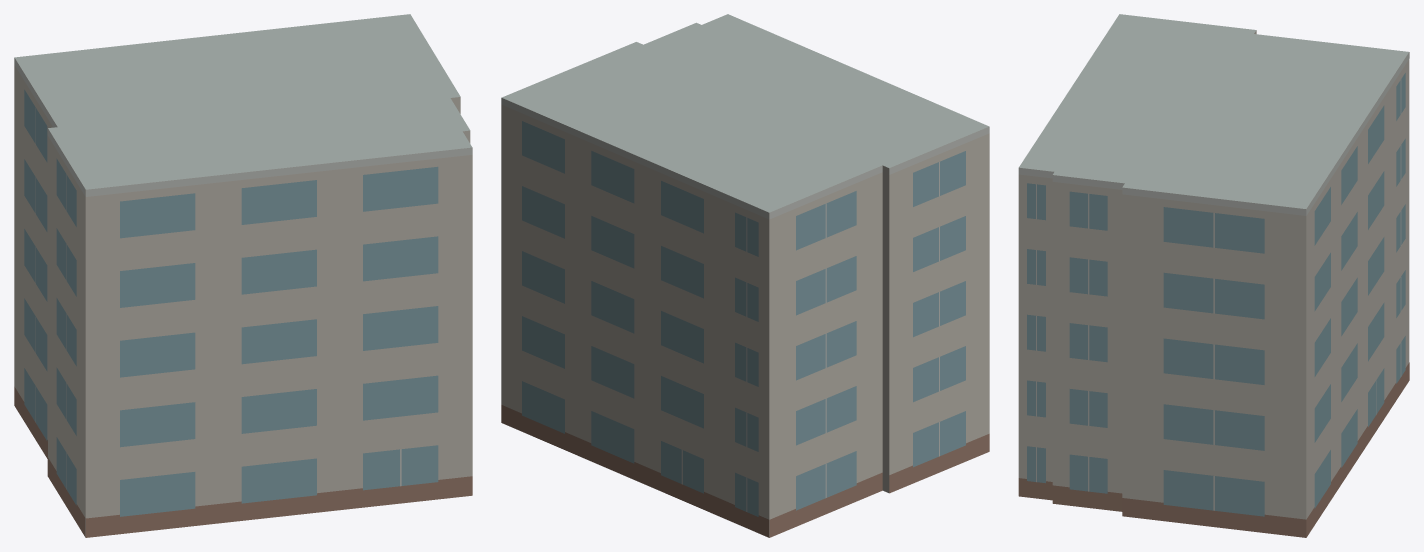
File: survey-upis-33015706.glb
The picture shows the model from 3 angles, left to right: view 1: azimuth 30°, elevation 25°; view 2: azimuth 150°, elevation 25°; view 3: azimuth 270°, elevation 25°; orthographic projection. The views are drawn at different scales.
Parts seen in each view (by area): view 1: survey-upis-33015706.tmp; view 2: survey-upis-33015706.tmp; view 3: survey-upis-33015706.tmp.
Boxes of the visible parts, <box> form: survey-upis-33015706.tmp: <box>14,14,472,537</box>; survey-upis-33015706.tmp: <box>501,14,989,537</box>; survey-upis-33015706.tmp: <box>1018,14,1409,537</box>.
Size of the model in its own units: 14.84 by 11.65 by 12.56.
